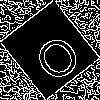O: (25, 24, 85, 85)
